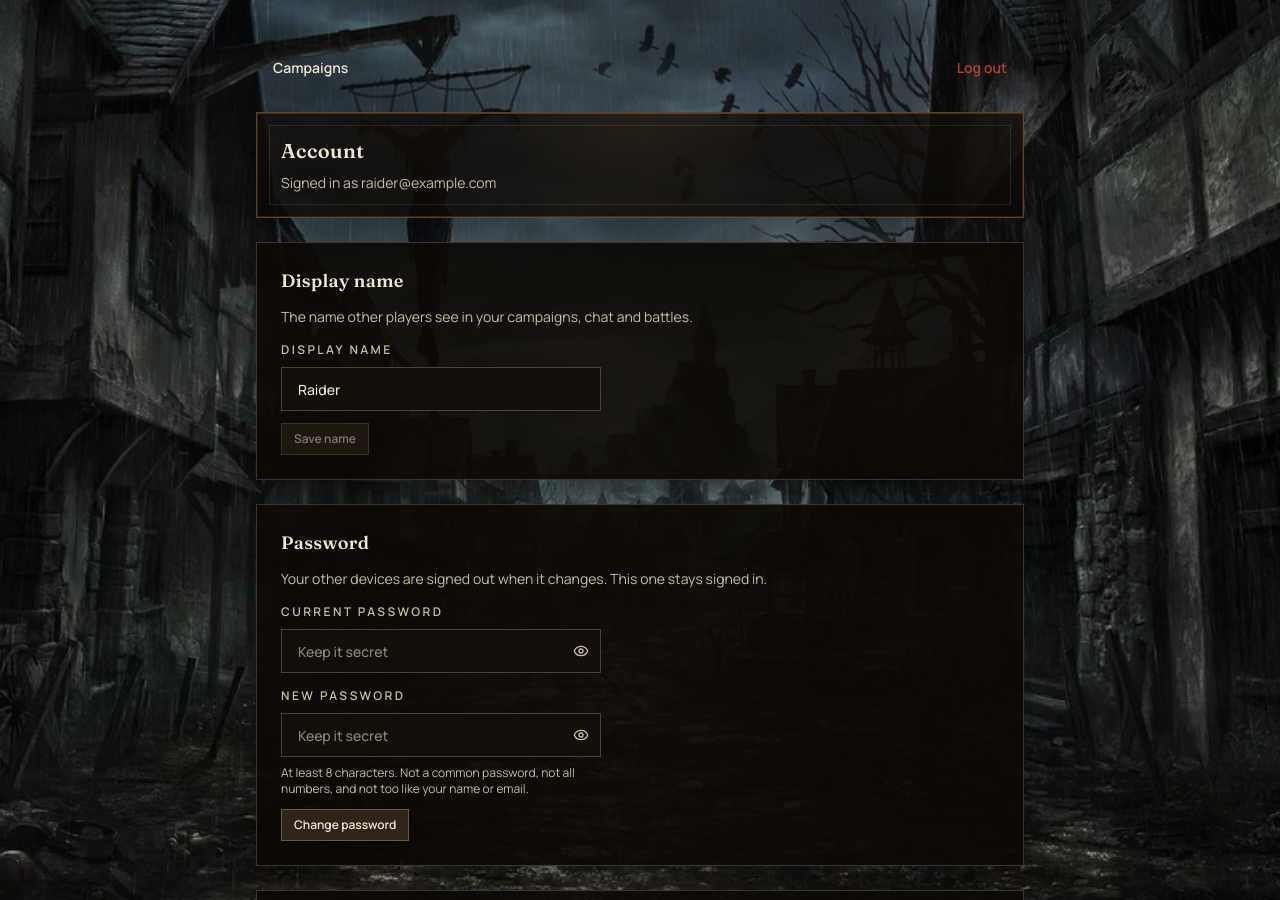
Test: the password (AUTH-NEW-03) › sends the current and the new password, keeps this device's fresh pair and empties the form
The width and height of the screenshot is (1280, 900).
In the password field labelled "Current password": (441, 651) [281,629,601,673], type "old-secret"
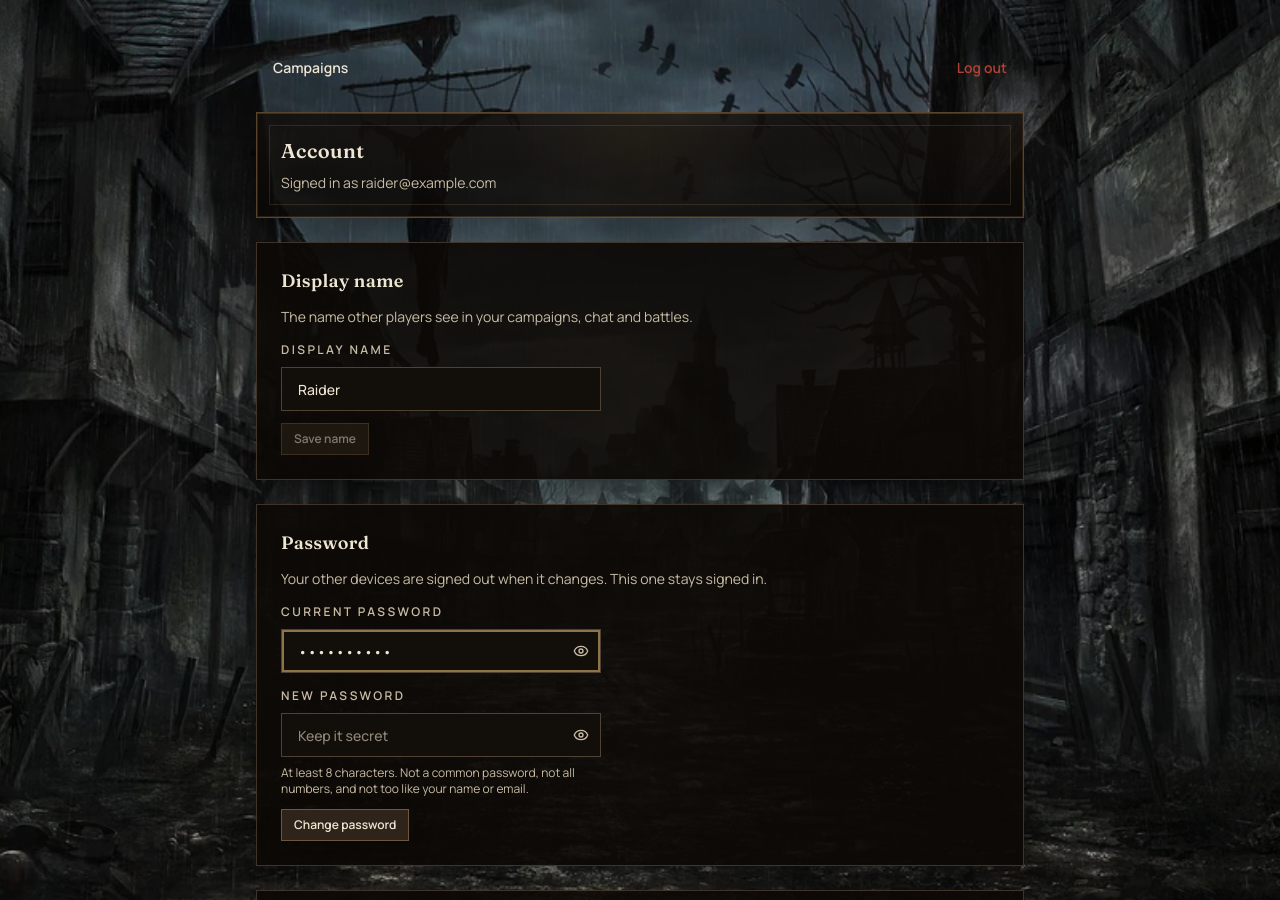
In the password field labelled "New password": (441, 735) [281,713,601,757], type "crimson-lantern-42"
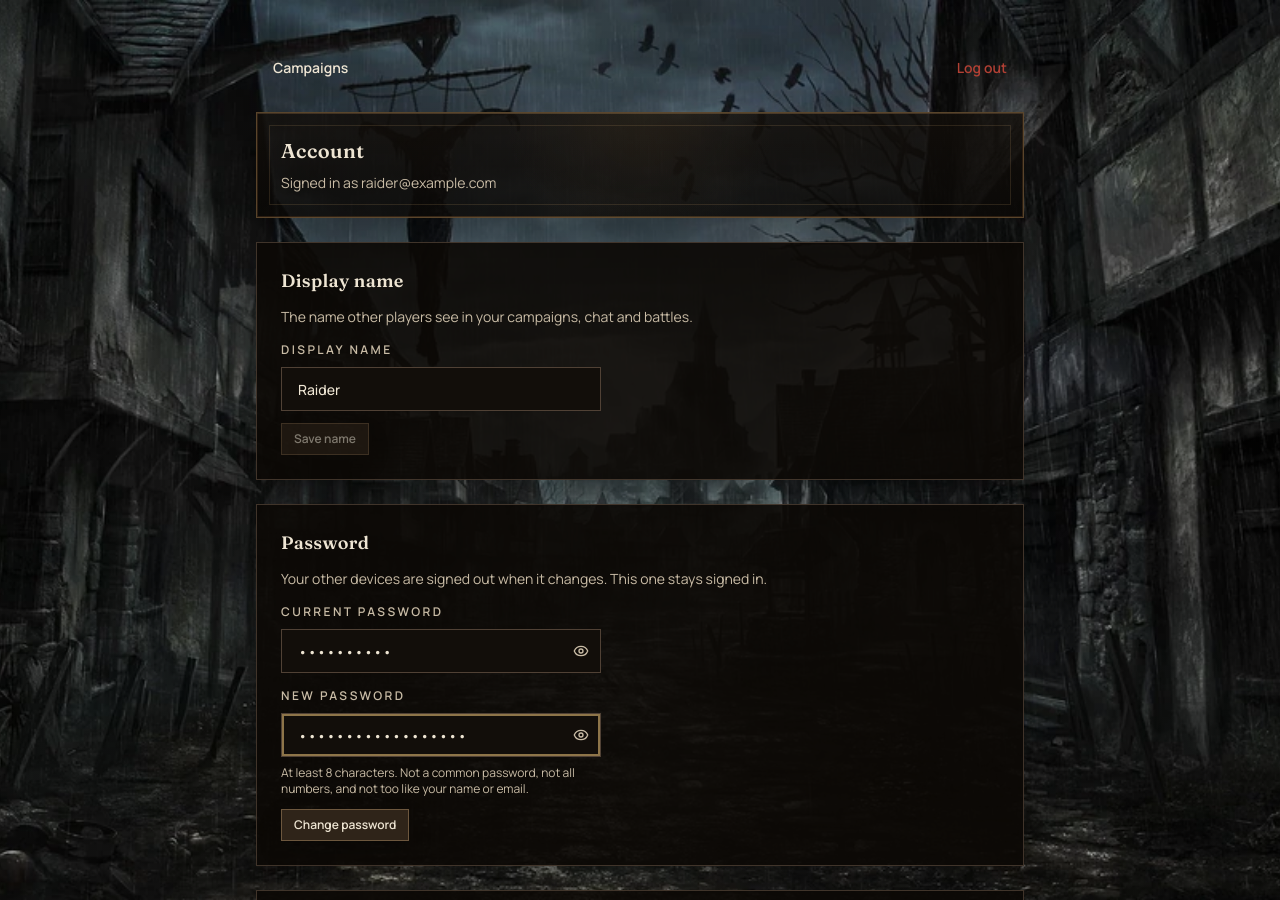
Click the button "Change password": (345, 825) [281,809,409,841]
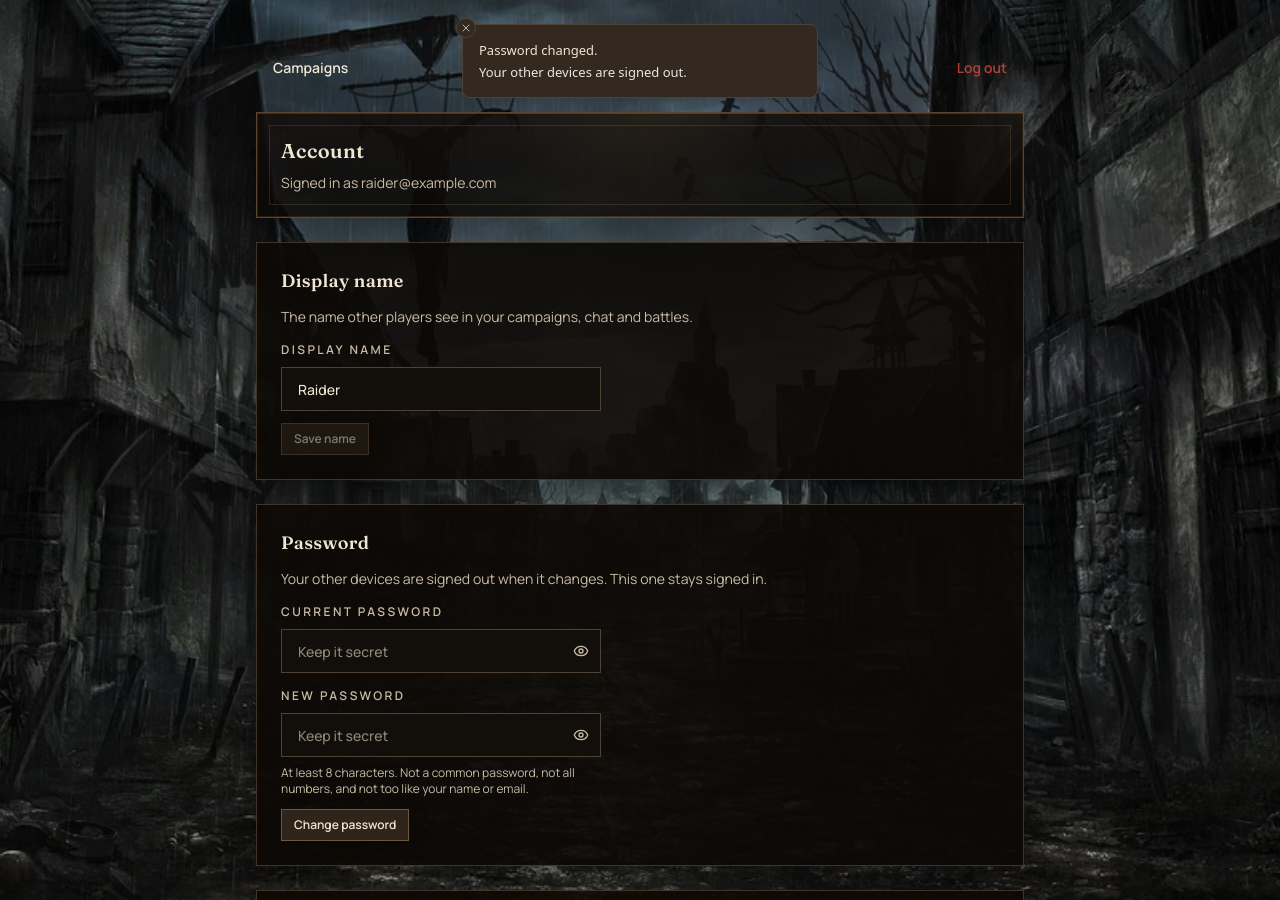
Check: the text "Password changed." is shown, box [479,41,598,59]
Check: the password field labelled "Current password" is empty, box [281,629,601,673]
Check: the password field labelled "New password" is empty, box [281,713,601,757]
